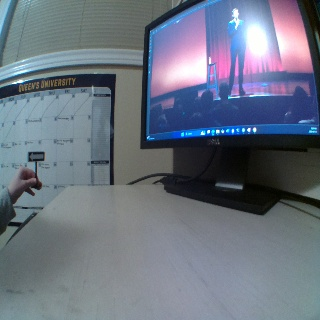sign_oneway_left: (28, 150, 45, 160)
